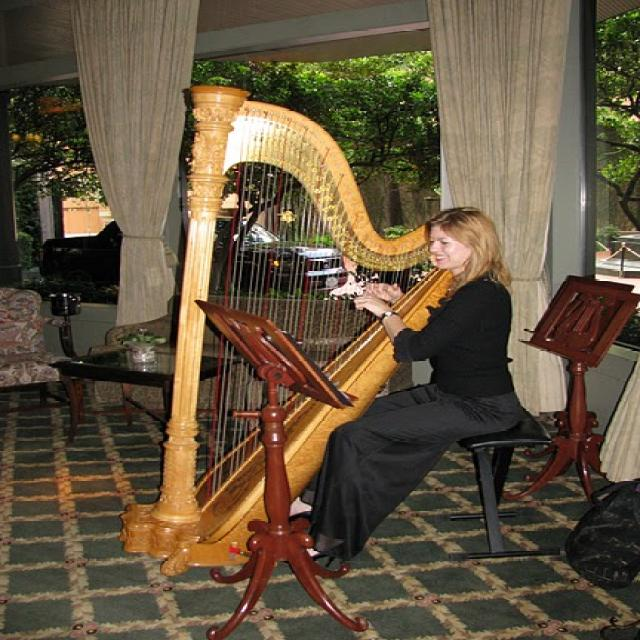harp: (116, 84, 479, 576)
